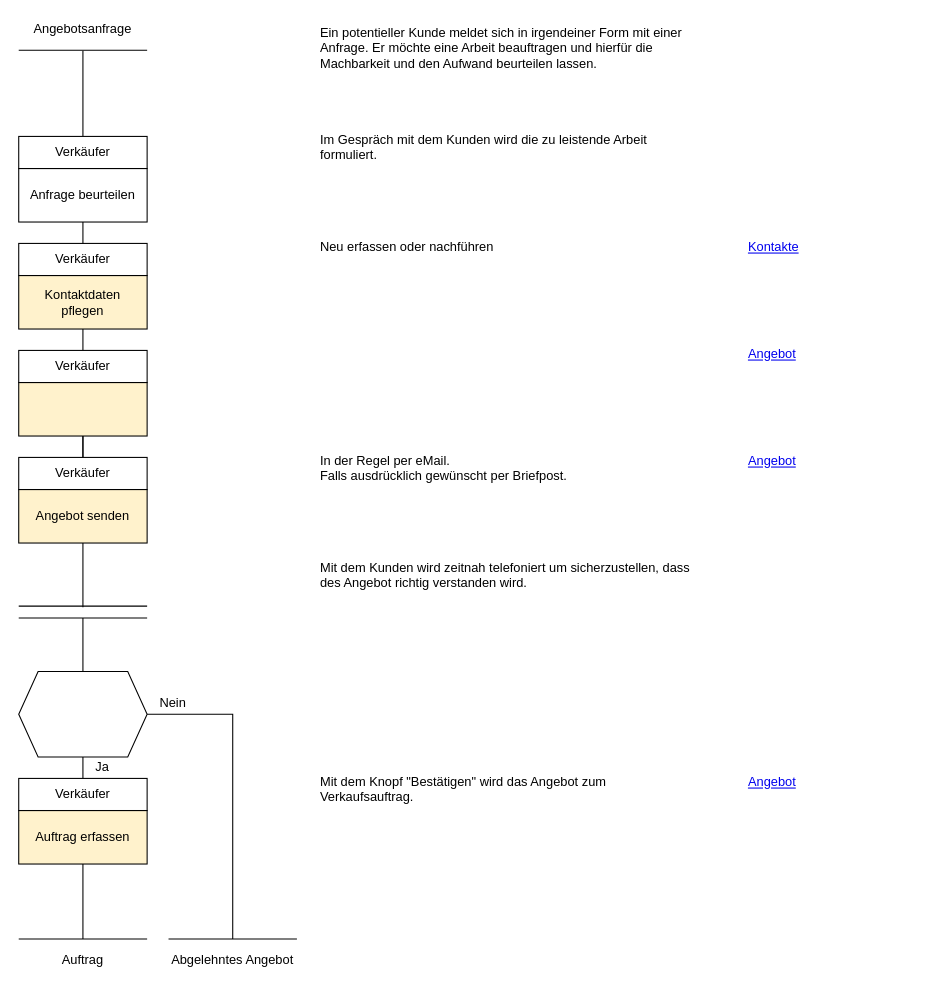
Image size: 936x999. Some labels were removed from this diagram. The box of each missing label's shape, as (x1, y1, x2, y2) in pixels:
Angebot angenommen?: (18, 670, 147, 757)
Angebot erstellen: (18, 381, 147, 436)
